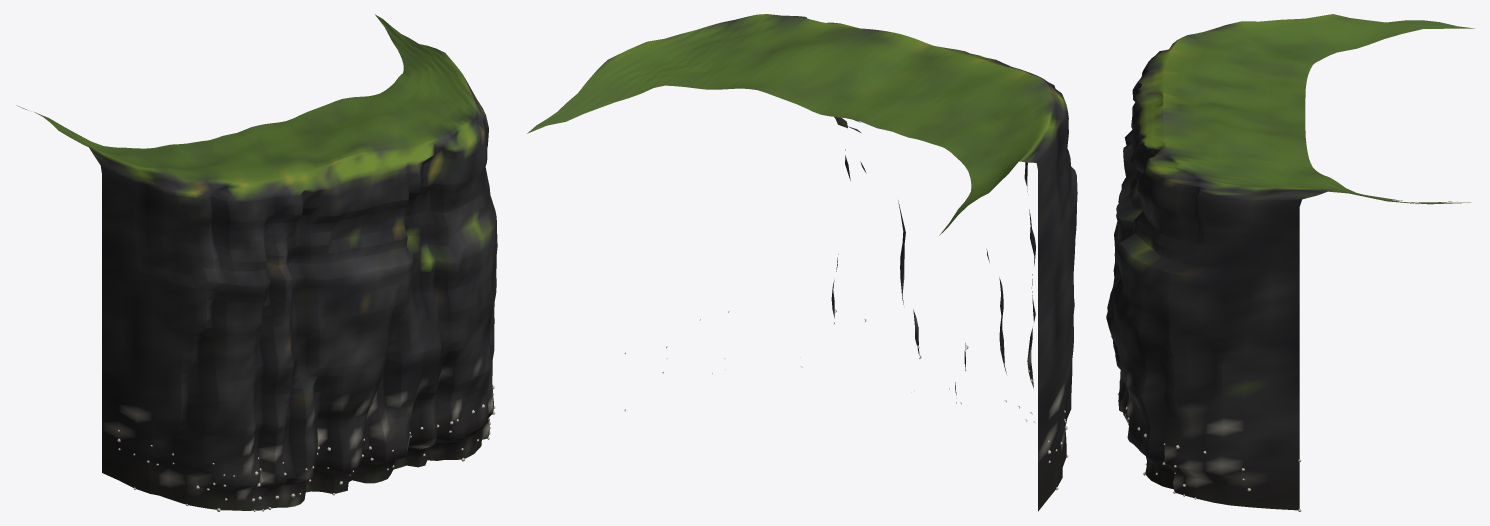
File: cliff-face-c.lod0.glb
3 views of the same model, side by side, from view 1: azimuth 30°, elevation 25°; view 2: azimuth 150°, elevation 25°; view 3: azimuth 270°, elevation 25° (orthographic). The views are drawn at different scales.
Bounding box in the file's own units: 7.39 × 6.33 × 6.51.
